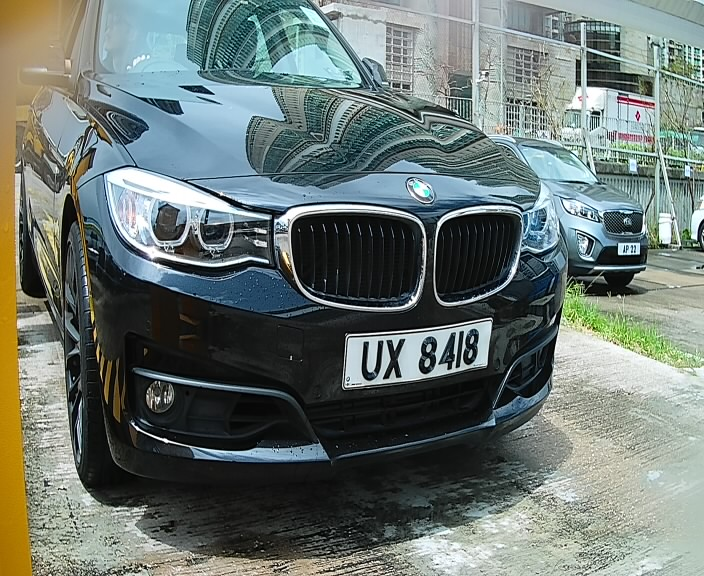Car: (50, 11, 582, 506)
License Plate: (335, 319, 498, 398)
